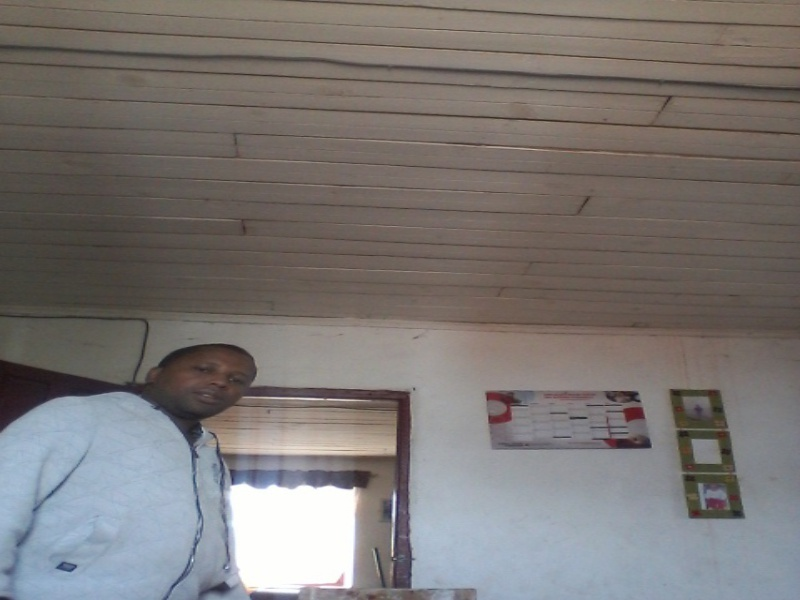TsisyArotava: (153, 328, 274, 435)
